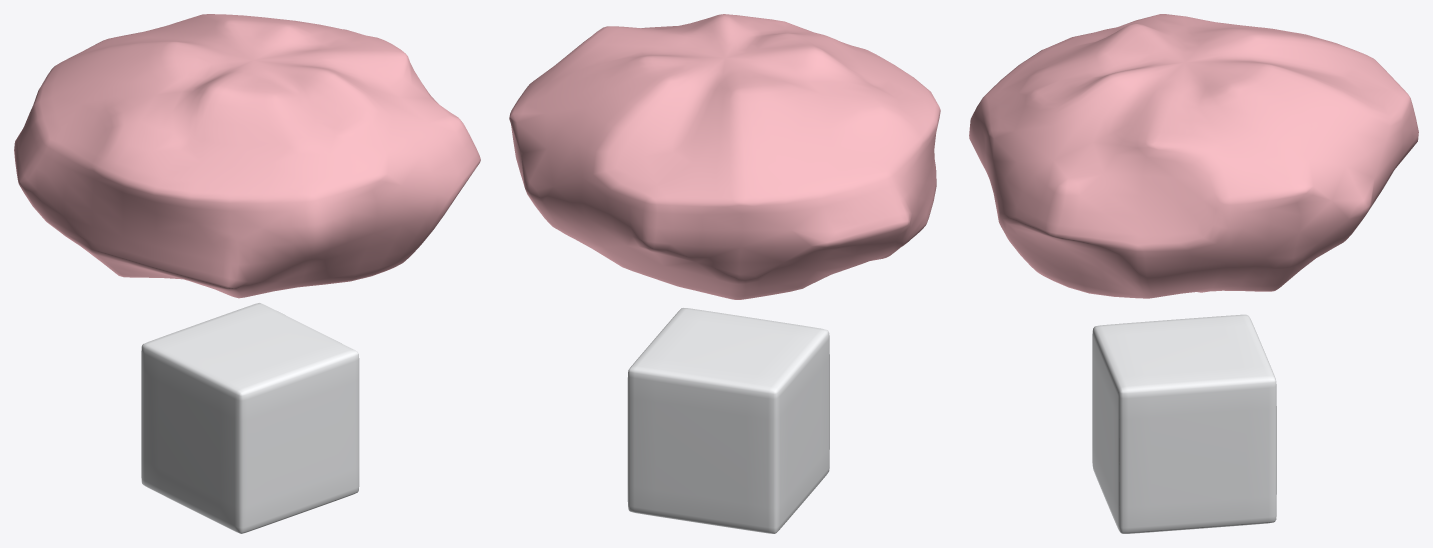
Rendered from PROP_Mushroom_v0.glb.
3 renders of one model, left to right at view 1: azimuth 30°, elevation 25°; view 2: azimuth 150°, elevation 25°; view 3: azimuth 270°, elevation 25°, orthographic.
Visible parts, largest first — view 1: PROP_Mushroom_v0; view 2: PROP_Mushroom_v0; view 3: PROP_Mushroom_v0.
Boxes of the visible parts, x1,y1,x2,y2 form: PROP_Mushroom_v0: (14,14,480,533); PROP_Mushroom_v0: (509,14,940,533); PROP_Mushroom_v0: (969,14,1418,533).
Bounding box in the file's own units: 2.83 × 3.02 × 2.78.
